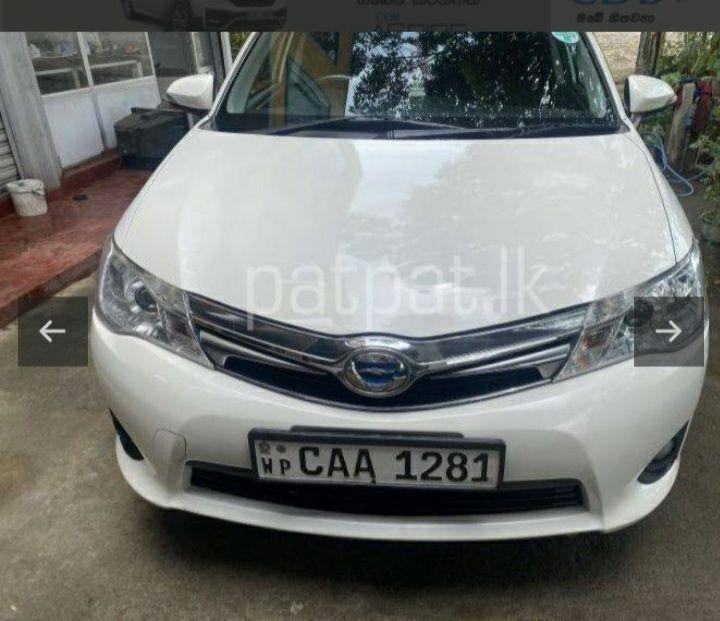license-plate: (252, 433, 500, 490)
